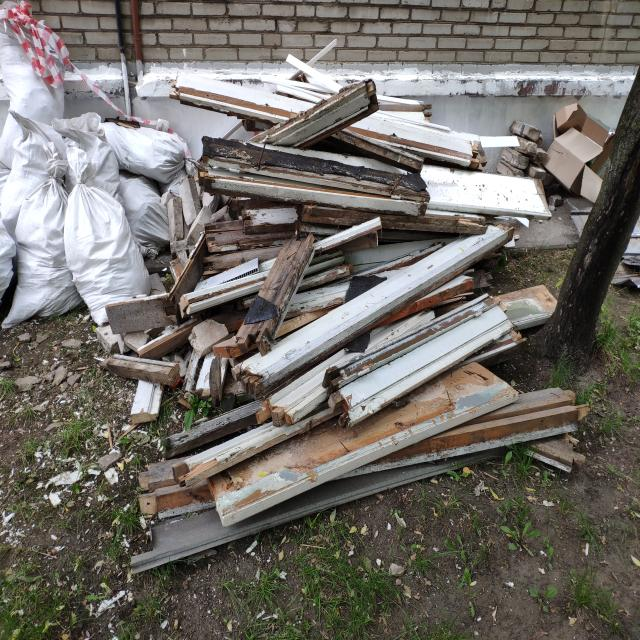entulho: (212, 399, 418, 524), (340, 306, 522, 425), (90, 318, 337, 400), (498, 93, 632, 210), (402, 393, 582, 476), (200, 138, 422, 200), (56, 180, 154, 304), (2, 178, 78, 330), (0, 24, 71, 184), (338, 114, 492, 172), (1, 115, 72, 236), (0, 0, 84, 94), (172, 74, 327, 124), (226, 201, 393, 242), (96, 119, 190, 188), (422, 168, 546, 220), (51, 112, 121, 202), (130, 508, 226, 572), (251, 246, 363, 288), (435, 223, 516, 270), (103, 295, 179, 334), (346, 239, 438, 271), (140, 479, 210, 516), (414, 274, 474, 307), (199, 256, 250, 288), (208, 226, 278, 246), (137, 461, 182, 492), (182, 458, 220, 486), (210, 310, 249, 334), (303, 40, 336, 68), (96, 324, 124, 355), (405, 120, 451, 134)
